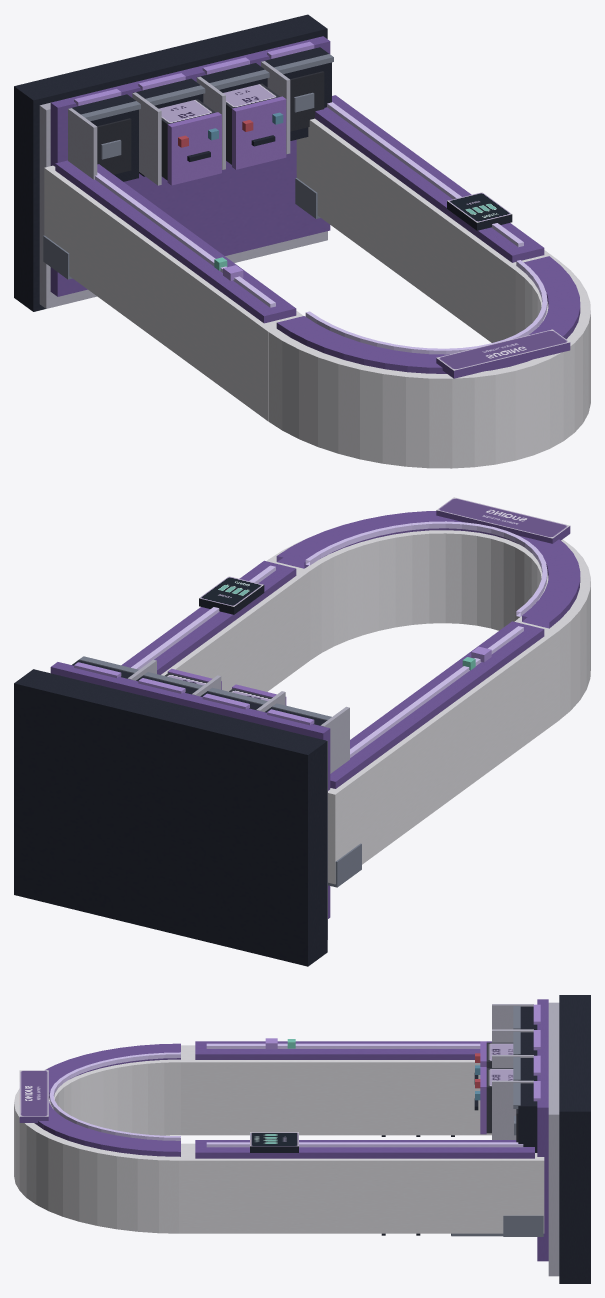
Rendered from portal_6.obj.
3 views of the same model, one above another, from view 1: azimuth 30°, elevation 25°; view 2: azimuth 150°, elevation 25°; view 3: azimuth 270°, elevation 25° (orthographic). The views are drawn at different scales.
Visible parts, largest first — view 1: SuQingPortal_mask_6; view 2: SuQingPortal_mask_6; view 3: SuQingPortal_mask_6.
Boxes of the visible parts, x1,y1,x2,y2 form: SuQingPortal_mask_6: [14, 14, 590, 468]; SuQingPortal_mask_6: [14, 497, 590, 966]; SuQingPortal_mask_6: [14, 995, 590, 1283].
Size of the model in its own units: 0.96 by 0.668 by 2.01.
1 material, 1 textured.
